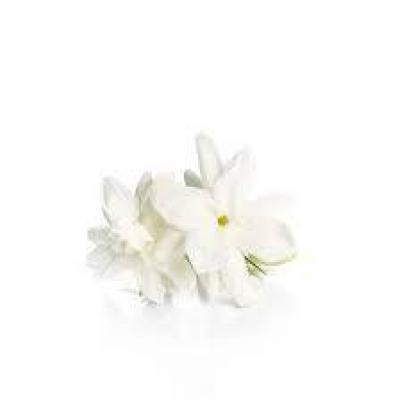Melati: (73, 138, 314, 305)
